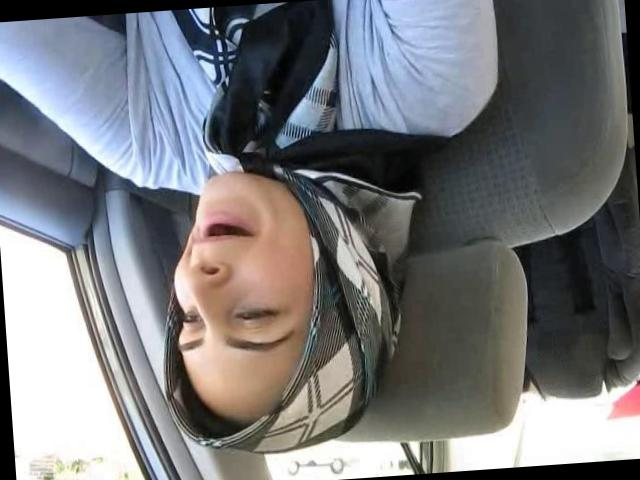eye_open: (230, 300, 285, 328), (177, 306, 203, 331)
face: (163, 166, 304, 372)
mouth_open: (192, 205, 262, 252)
